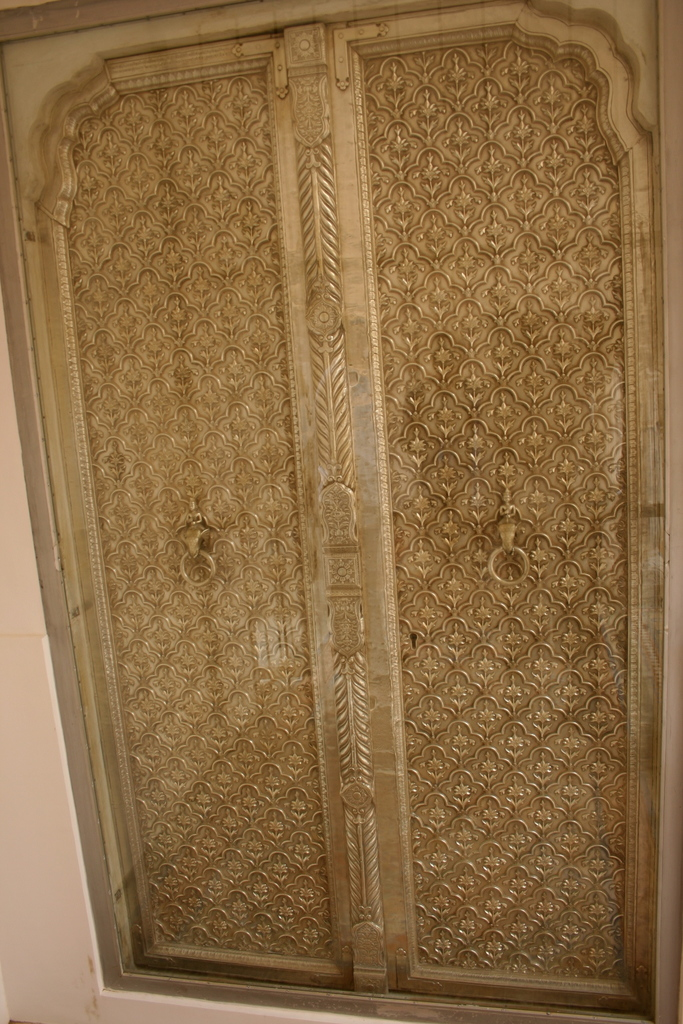door: (382, 73, 602, 954), (73, 110, 281, 923)
handle: (480, 529, 535, 594), (176, 538, 218, 596)
